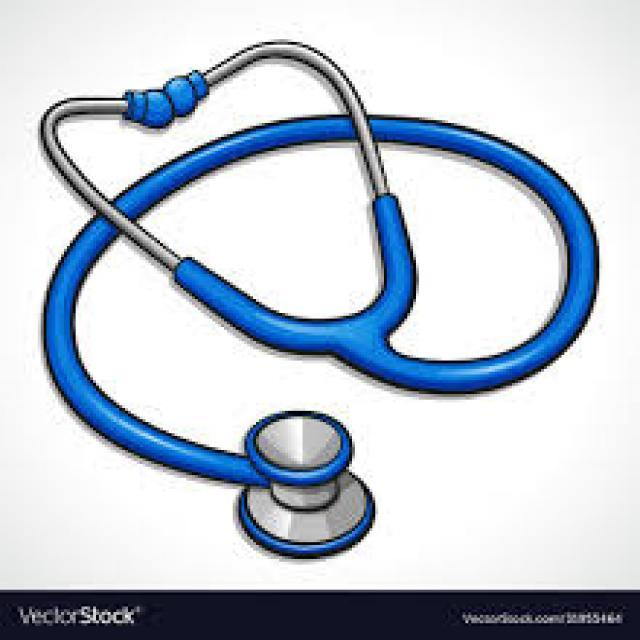stethoscope: (46, 63, 584, 588)
